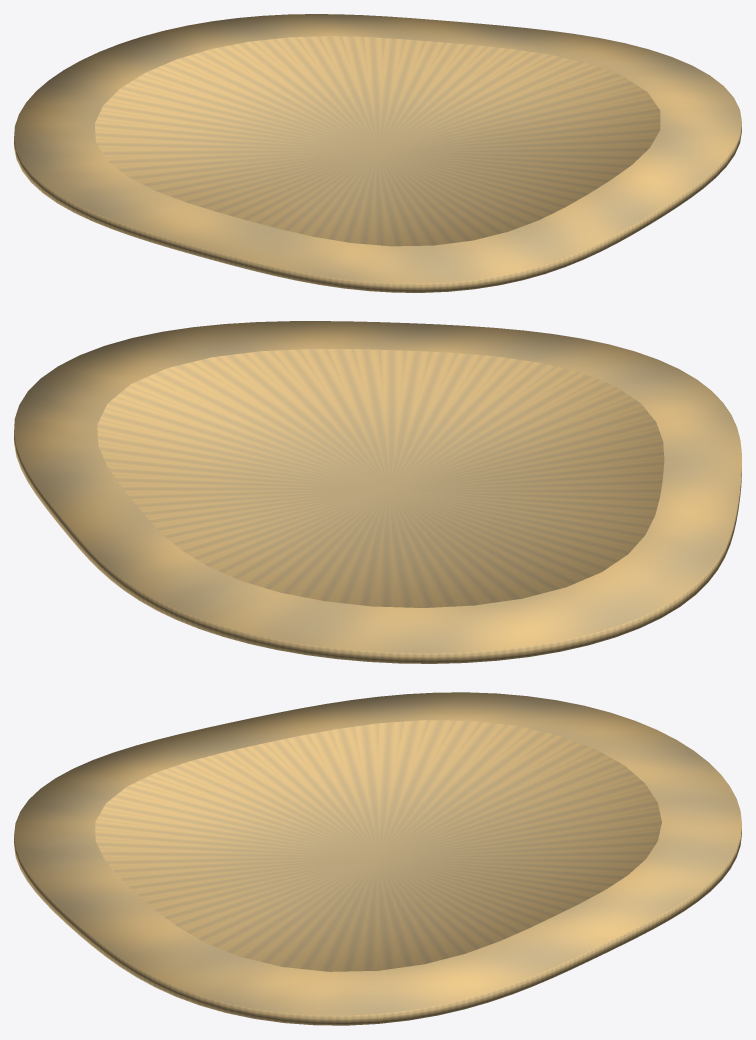
File: ISL-M_LOD1_Beach.fbx
3 renders of one model, top to bottom at view 1: azimuth 30°, elevation 25°; view 2: azimuth 150°, elevation 25°; view 3: azimuth 270°, elevation 25°, orthographic. The views are drawn at different scales.
Parts seen in each view (by area): view 1: ISL-M_LOD1_Beach; view 2: ISL-M_LOD1_Beach; view 3: ISL-M_LOD1_Beach.
Part boxes in pixels (x1,y1,x2,y2): ISL-M_LOD1_Beach: (14, 14, 741, 292); ISL-M_LOD1_Beach: (14, 321, 741, 663); ISL-M_LOD1_Beach: (14, 692, 741, 1025).
Size of the model in its own units: 105 by 99.49 by 2.5.
